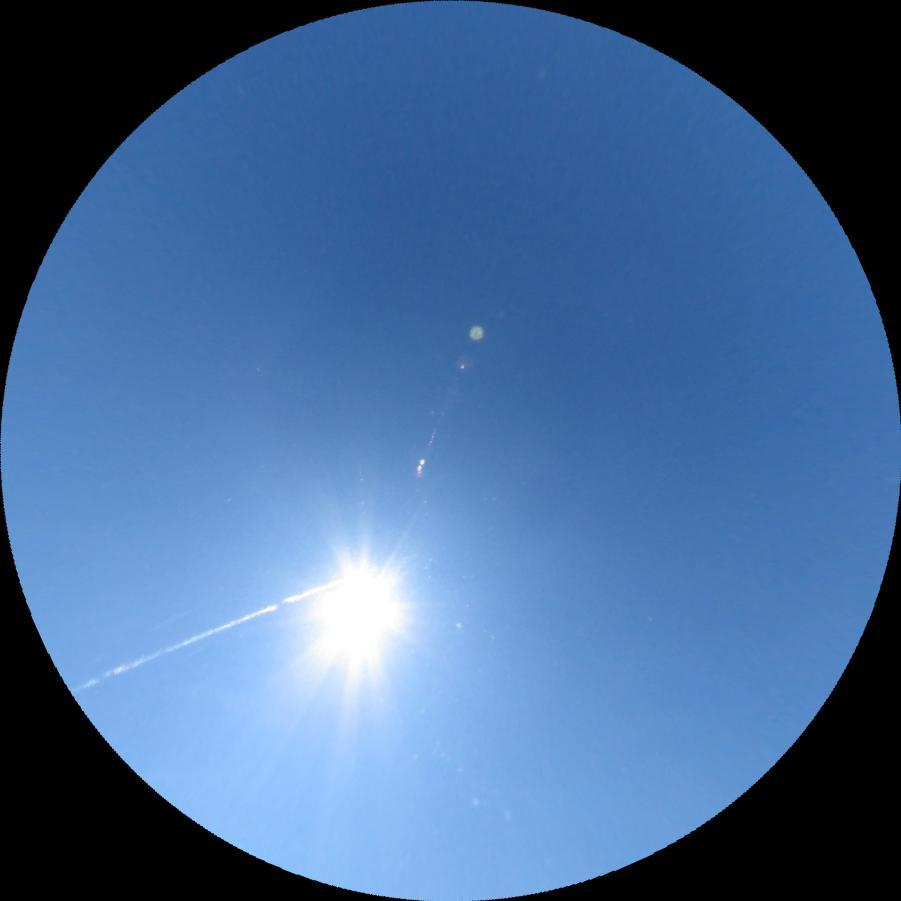parasite: (70, 578, 328, 696)
sun: (290, 544, 423, 682)
